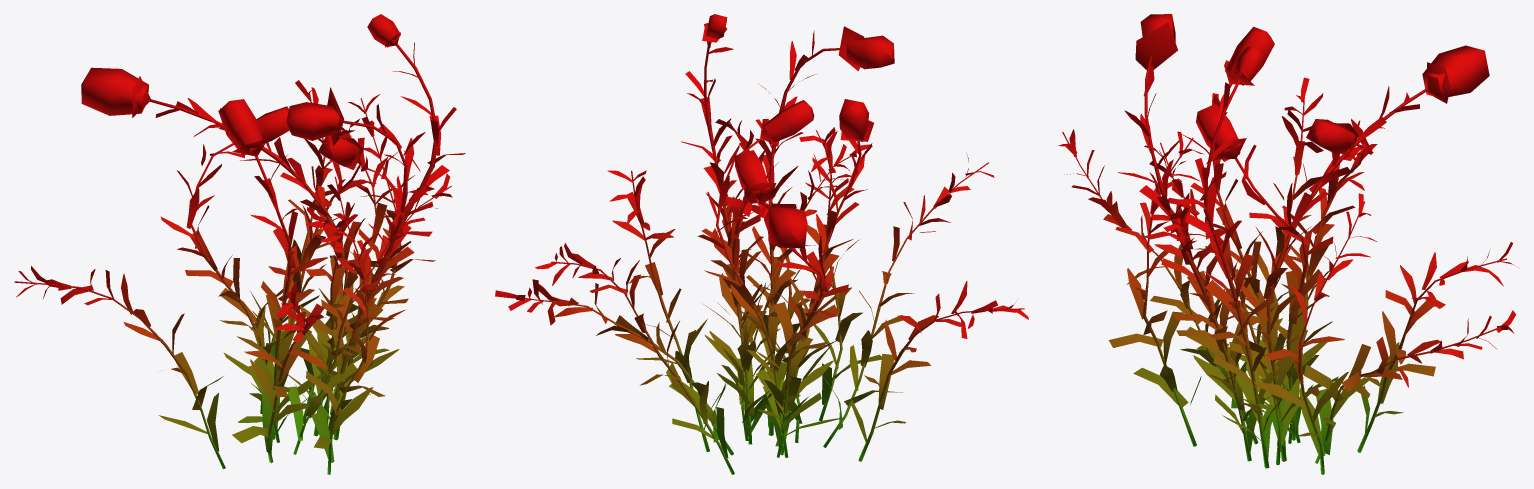
Rendered from Var6_LOD2.fbx.
3 views of the same model, side by side, from view 1: azimuth 30°, elevation 25°; view 2: azimuth 150°, elevation 25°; view 3: azimuth 270°, elevation 25° (orthographic). The views are drawn at different scales.
Parts seen in each view (by area): view 1: _t3i8_Var6_LOD2; view 2: _t3i8_Var6_LOD2; view 3: _t3i8_Var6_LOD2.
Boxes of the visible parts, bbox=[...] form: _t3i8_Var6_LOD2: bbox=[14, 14, 465, 474]; _t3i8_Var6_LOD2: bbox=[495, 14, 1028, 474]; _t3i8_Var6_LOD2: bbox=[1058, 14, 1518, 474].
Size of the model in its own units: 32.83 by 29.61 by 28.13.
